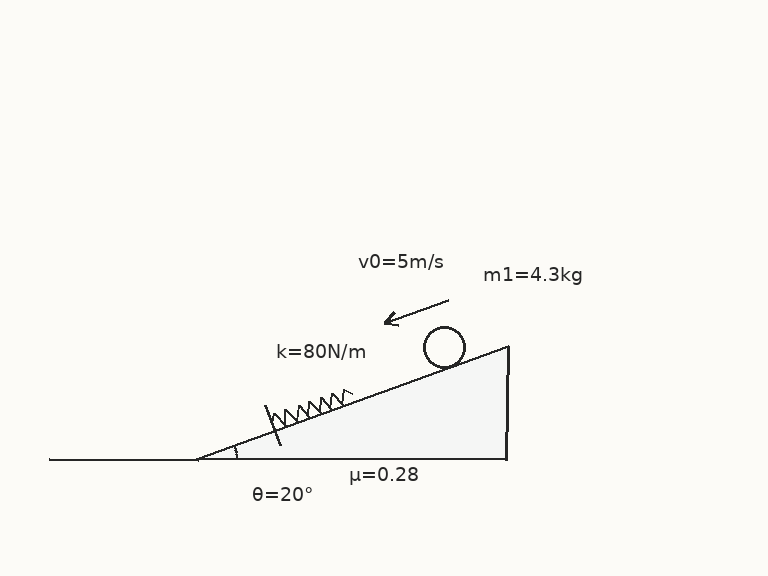ball: (421, 324, 467, 370)
ramp: (195, 344, 509, 461)
spring: (269, 386, 354, 427)
